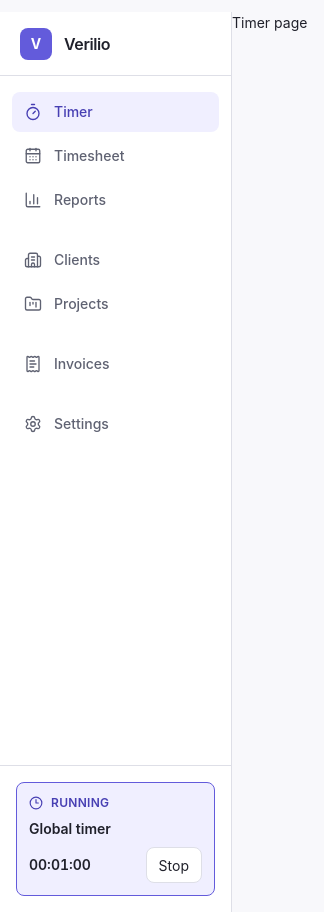
Scenario: global Timer indicator reconciliation › resolves to idle when Stop commits but its response is lost
This screenshot has width=324, height=912.
Click the button "Stop" at {"x": 174, "y": 865}, box x1=146 y1=847 x2=202 y2=883
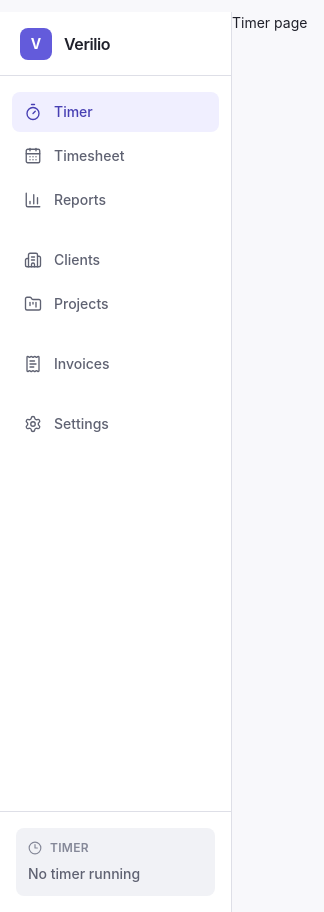
Now the text "No timer running" is shown, box x1=28 y1=865 x2=140 y2=882
